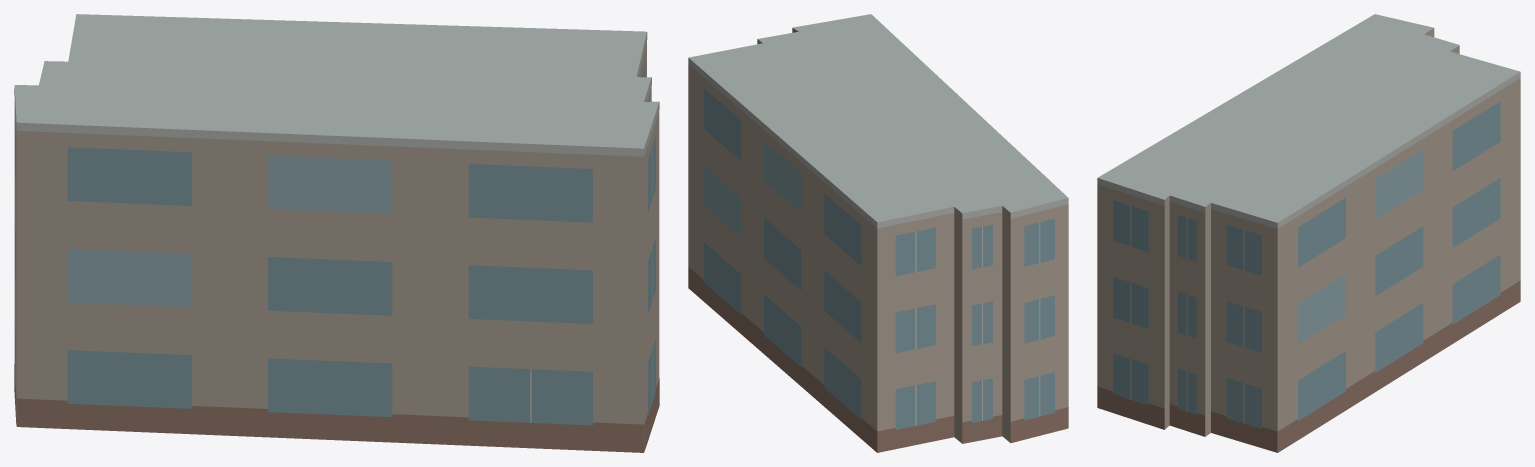
File: survey-upis-32935320.glb
The picture shows the model from 3 angles, left to right: view 1: azimuth 30°, elevation 25°; view 2: azimuth 150°, elevation 25°; view 3: azimuth 270°, elevation 25°; orthographic projection. The views are drawn at different scales.
Parts seen in each view (by area): view 1: survey-upis-32935320.tmp; view 2: survey-upis-32935320.tmp; view 3: survey-upis-32935320.tmp.
Part boxes in pixels (x1,y1,x2,y2): survey-upis-32935320.tmp: (14, 14, 659, 452); survey-upis-32935320.tmp: (688, 14, 1068, 452); survey-upis-32935320.tmp: (1097, 14, 1520, 452).
Bounding box in the file's own units: 17.73 × 9.1 × 15.18.
